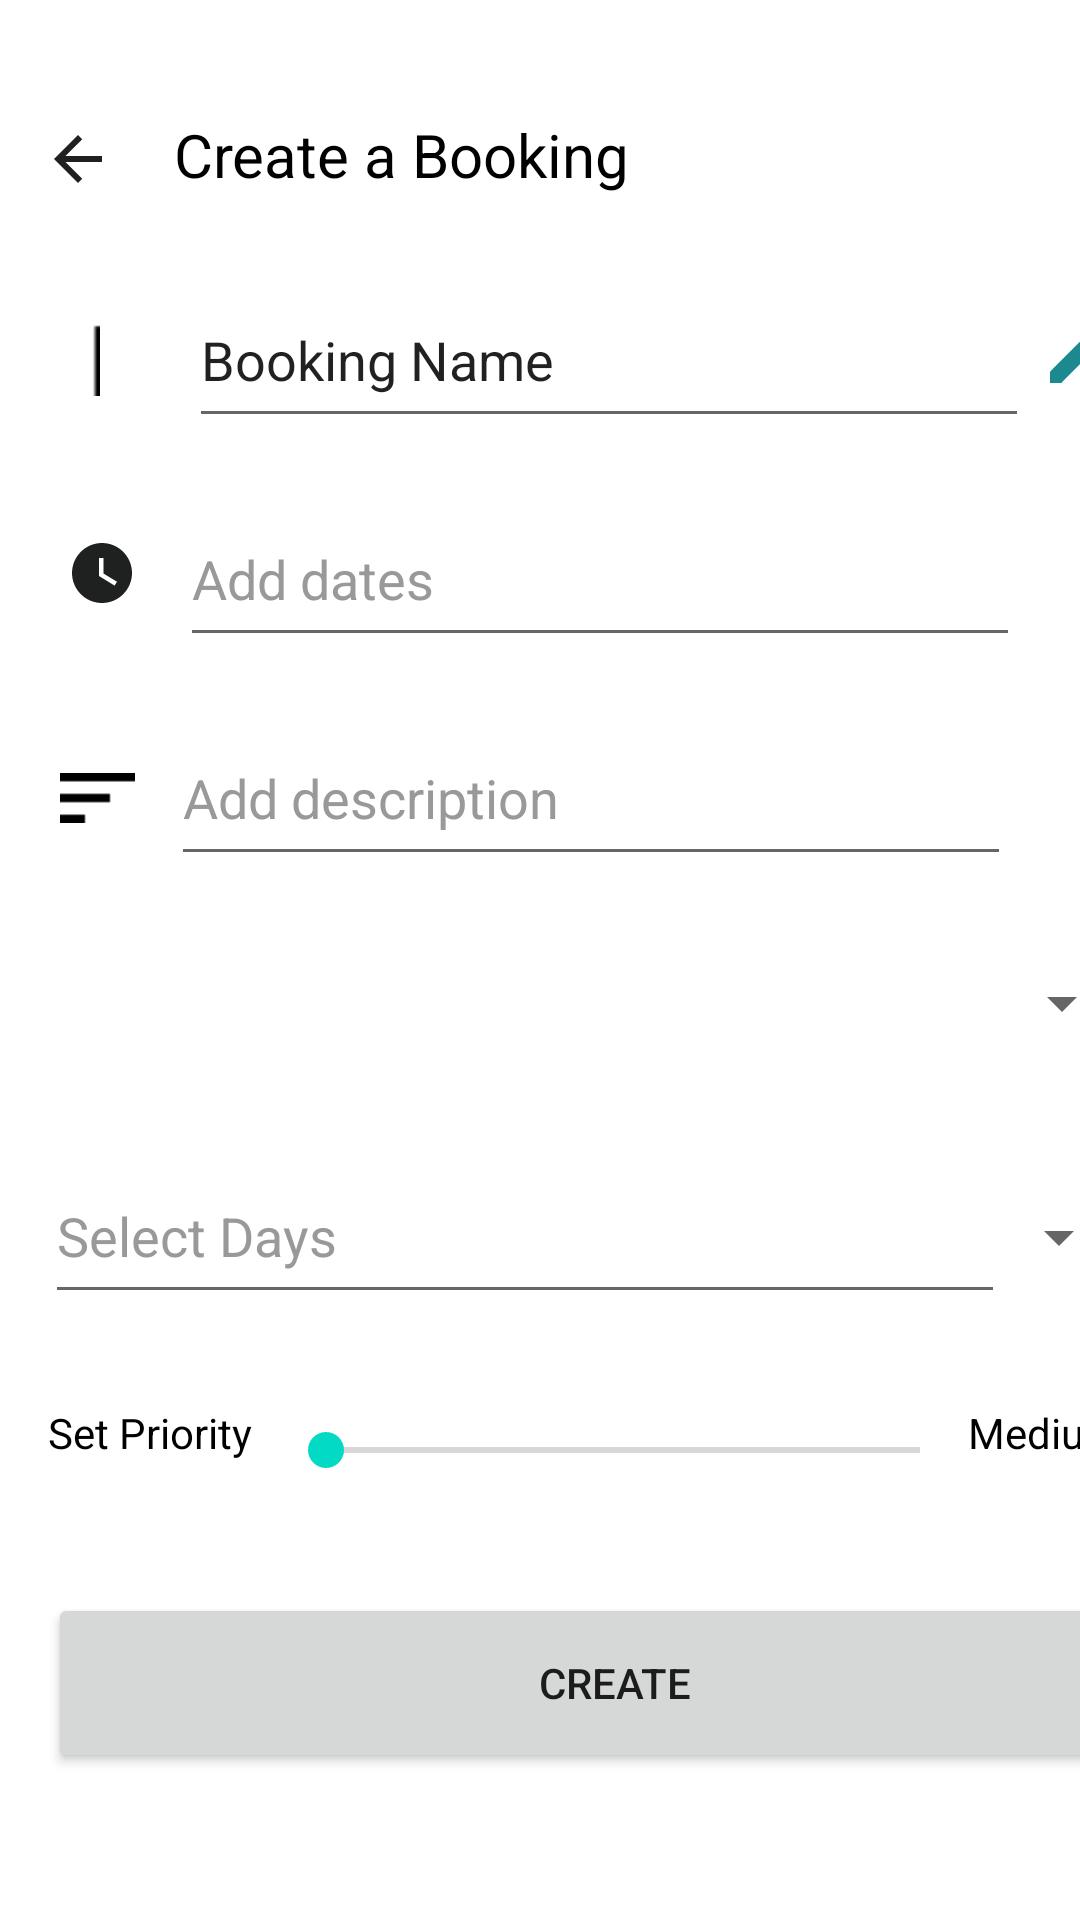

Icon click points for this 1080w x 1920h phone screenshot, format (x,y):
arrow back: (78,159)
